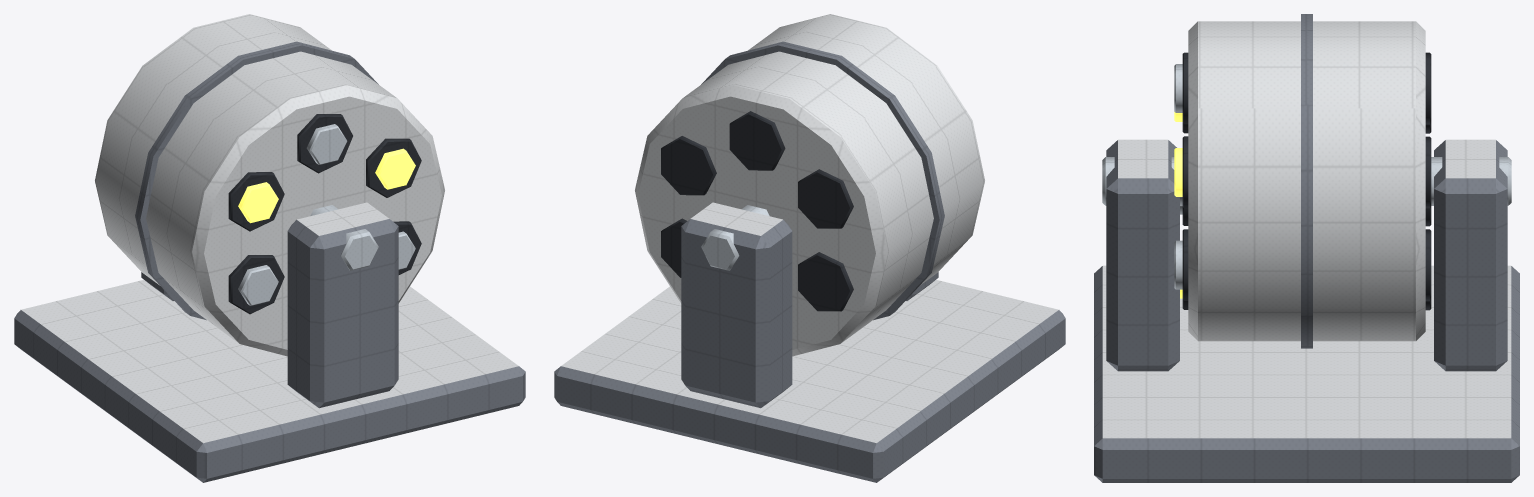
File: R4X_ReloadBooster_LOD1.glb
3 views of the same model, side by side, from view 1: azimuth 30°, elevation 25°; view 2: azimuth 150°, elevation 25°; view 3: azimuth 270°, elevation 25° (orthographic). The views are drawn at different scales.
Parts seen in each view (by area): view 1: R4X_ReloadBooster_LOD1; view 2: R4X_ReloadBooster_LOD1; view 3: R4X_ReloadBooster_LOD1.
Boxes of the visible parts, x1=… form: R4X_ReloadBooster_LOD1: x1=14, y1=14, x2=525, y2=482; R4X_ReloadBooster_LOD1: x1=554, y1=14, x2=1065, y2=482; R4X_ReloadBooster_LOD1: x1=1094, y1=14, x2=1519, y2=482.
Bounding box in the file's own units: 0.52 × 0.4938 × 0.52.
5 materials, 4 textured.
